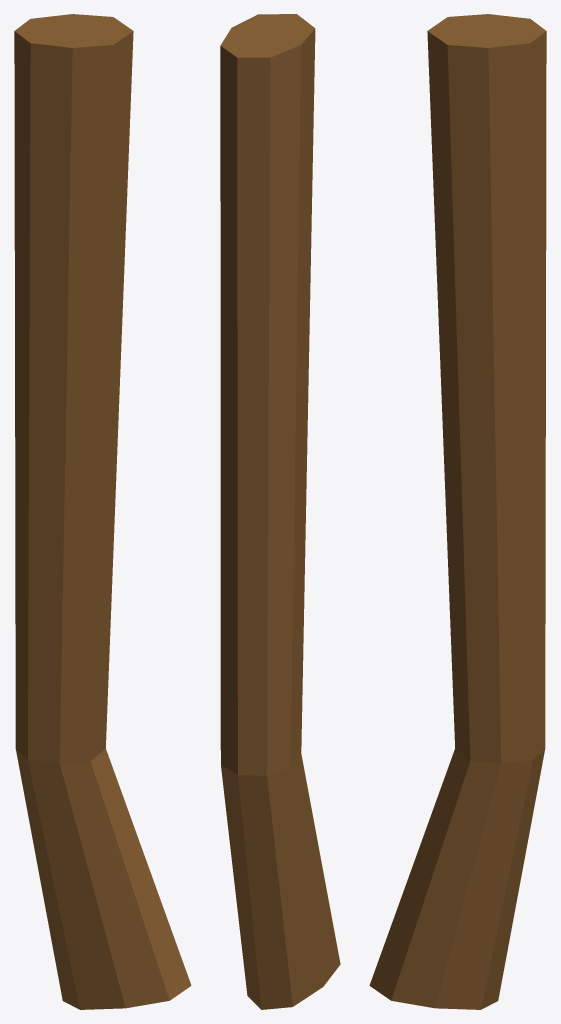
File: Axe Handle.glb
3 views of the same model, side by side, from view 1: azimuth 90°, elevation 25°; view 2: azimuth 150°, elevation 25°; view 3: azimuth 270°, elevation 25° (orthographic).
Visible parts, largest first — view 1: Axe Handle; view 2: Axe Handle; view 3: Axe Handle.
Boxes of the visible parts, x1,y1,x2,y2 form: Axe Handle: (14, 14, 191, 1009); Axe Handle: (220, 14, 340, 1009); Axe Handle: (369, 14, 546, 1009).
Size of the model in its own units: 0.0675 by 0.8984 by 0.1487.
